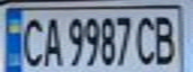7: (115, 12, 136, 66)
8: (100, 12, 118, 66)
9: (63, 12, 84, 68), (81, 12, 100, 68)
A: (39, 14, 63, 68)
B: (151, 11, 181, 66)
C: (18, 13, 45, 69), (133, 11, 160, 66)
